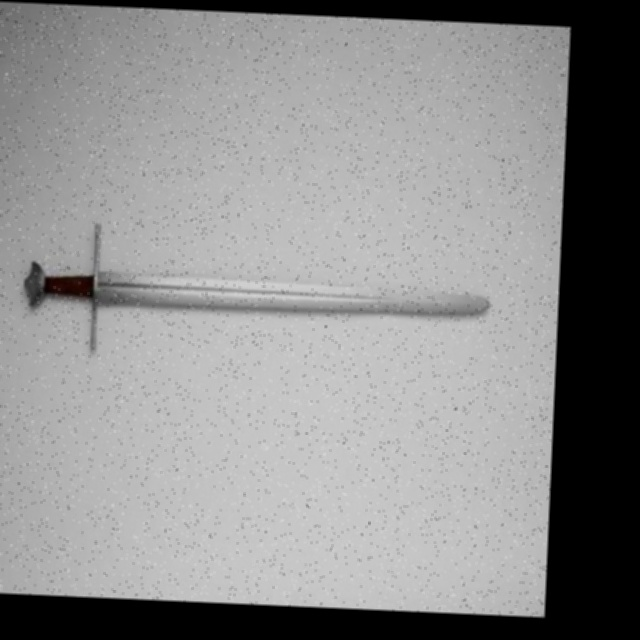Sharp-Object: (6, 260, 500, 344)
